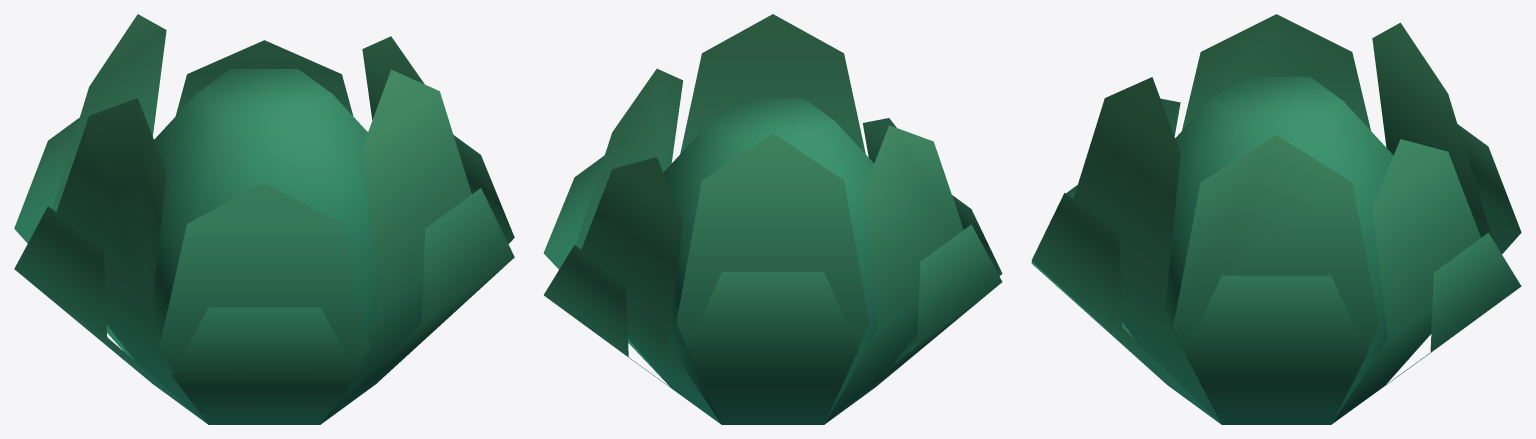
File: cabbage.glb
3 renders of one model, left to right at view 1: azimuth 30°, elevation 25°; view 2: azimuth 150°, elevation 25°; view 3: azimuth 270°, elevation 25°, orthographic. The views are drawn at different scales.
Visible parts, largest first — view 1: cabbage-2; view 2: cabbage-2; view 3: cabbage-2.
Boxes of the visible parts, x1,y1,x2,y2 form: cabbage-2: (14,14,514,424); cabbage-2: (543,14,1002,424); cabbage-2: (1031,14,1521,424).
Bounding box in the file's own units: 0.3795 × 0.3074 × 0.4036.
